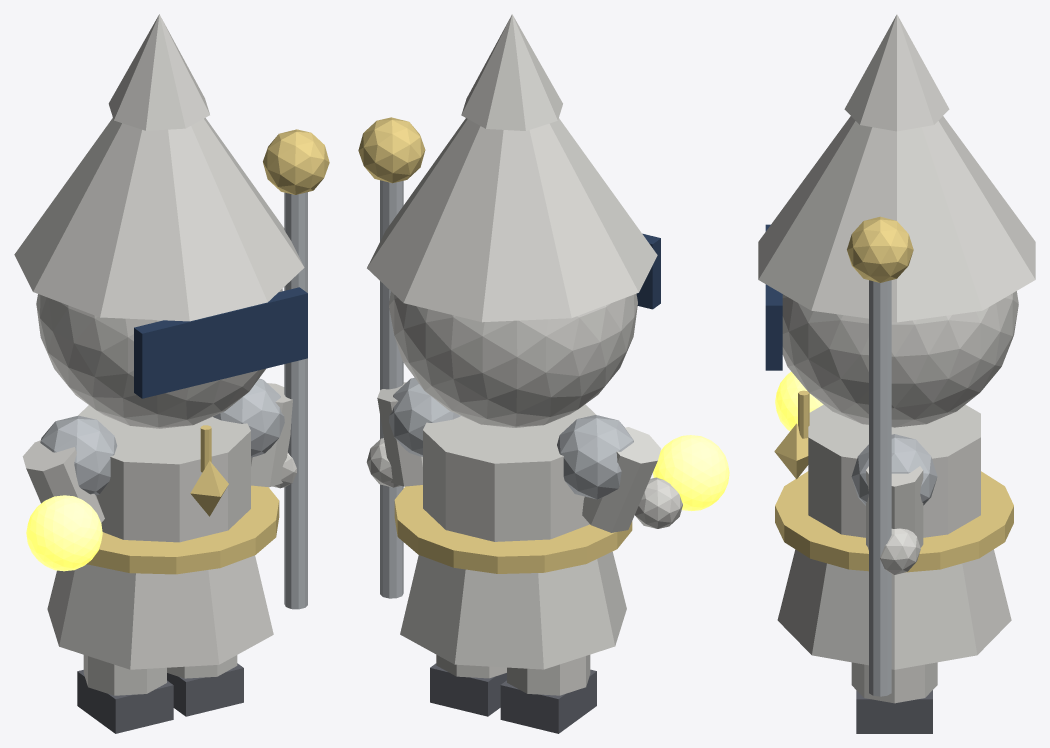
File: bishop.glb
3 views of the same model, side by side, from view 1: azimuth 30°, elevation 25°; view 2: azimuth 150°, elevation 25°; view 3: azimuth 270°, elevation 25° (orthographic).
Visible parts, largest first — view 1: Hood, Robe_Lower, Torso_Chest, Head, Face_Opening, Belt_Sash, Staff, Hood_Tip, Holy_Orb, Shoulder_L, Foot_L, Staff_Gem (+7 smaller); view 2: Hood, Head, Robe_Lower, Torso_Chest, Belt_Sash, Hood_Tip, Staff, Shoulder_L, Holy_Orb, Arm_L_Bent, Foot_L, Staff_Gem (+8 smaller); view 3: Hood, Head, Robe_Lower, Torso_Chest, Staff, Belt_Sash, Hood_Tip, Staff_Gem, Foot_R, Shoulder_R, Leg_R, Arm_R (+5 smaller).
Part boxes in pixels (left/top/right/bottom): Hood: left=14, top=118, right=304, bottom=321; Robe_Lower: left=47, top=555, right=273, bottom=669; Torso_Chest: left=78, top=405, right=250, bottom=542; Head: left=36, top=289, right=282, bottom=428; Face_Opening: left=134, top=287, right=307, bottom=398; Belt_Sash: left=87, top=485, right=279, bottom=574; Staff: left=284, top=192, right=307, bottom=609; Hood_Tip: left=108, top=14, right=209, bottom=130; Holy_Orb: left=26, top=495, right=102, bottom=571; Shoulder_L: left=40, top=415, right=117, bottom=495; Foot_L: left=77, top=670, right=173, bottom=733; Staff_Gem: left=263, top=129, right=329, bottom=194; Hood: left=367, top=118, right=657, bottom=322; Head: left=389, top=291, right=637, bottom=427; Robe_Lower: left=400, top=551, right=626, bottom=669; Torso_Chest: left=423, top=404, right=596, bottom=541; Belt_Sash: left=394, top=485, right=632, bottom=573; Hood_Tip: left=461, top=14, right=562, bottom=130; Staff: left=380, top=180, right=403, bottom=598; Shoulder_L: left=557, top=415, right=633, bottom=499; Holy_Orb: left=653, top=435, right=729, bottom=511; Arm_L_Bent: left=582, top=427, right=660, bottom=532; Foot_L: left=500, top=669, right=596, bottom=733; Staff_Gem: left=358, top=117, right=425, bottom=183; Hood: left=758, top=116, right=1035, bottom=322; Head: left=782, top=291, right=1018, bottom=427; Robe_Lower: left=777, top=549, right=1011, bottom=669; Torso_Chest: left=808, top=404, right=980, bottom=537; Staff: left=869, top=280, right=891, bottom=696; Belt_Sash: left=775, top=471, right=1013, bottom=572; Hood_Tip: left=844, top=14, right=949, bottom=131; Staff_Gem: left=847, top=216, right=913, bottom=282; Foot_R: left=856, top=690, right=932, bottom=733; Shoulder_R: left=851, top=434, right=937, bottom=505; Leg_R: left=851, top=662, right=937, bottom=703; Arm_R: left=866, top=466, right=923, bottom=547.
Size of the model in its own units: 0.79 by 1.59 by 0.5801.
